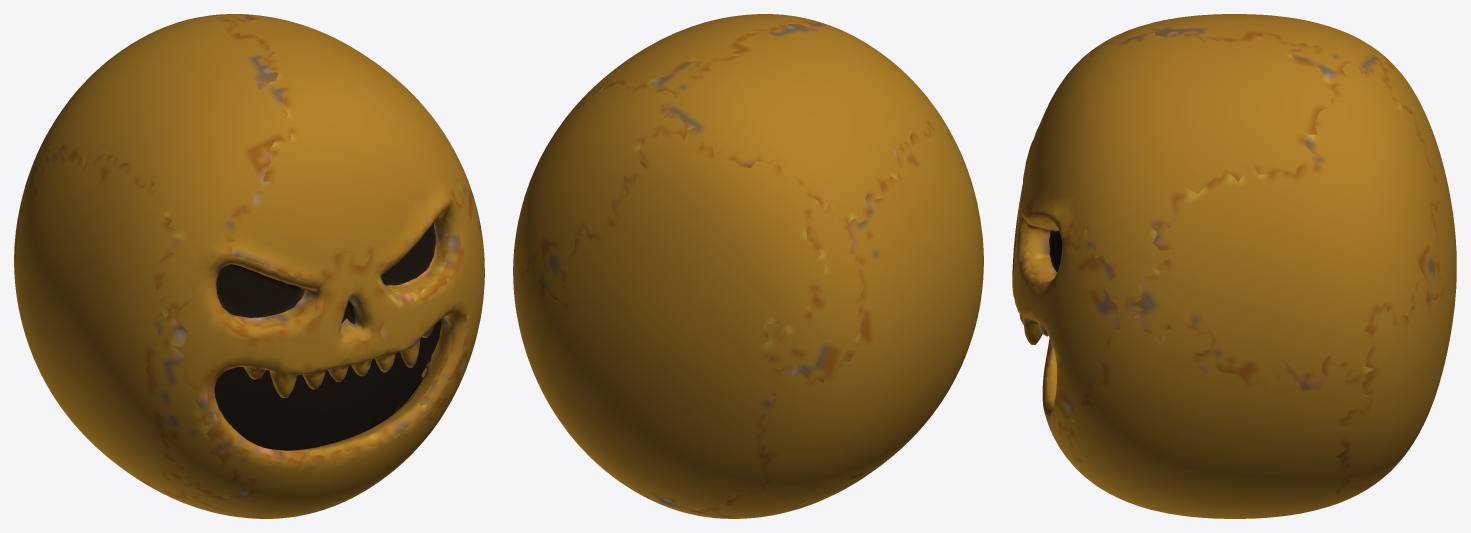
Rendered from SOULA0.obj.
3 views of the same model, side by side, from view 1: azimuth 30°, elevation 25°; view 2: azimuth 150°, elevation 25°; view 3: azimuth 270°, elevation 25° (orthographic). The views are drawn at different scales.
Size of the model in its own units: 0.9061 by 1 by 0.873.
1 material, 1 textured.
